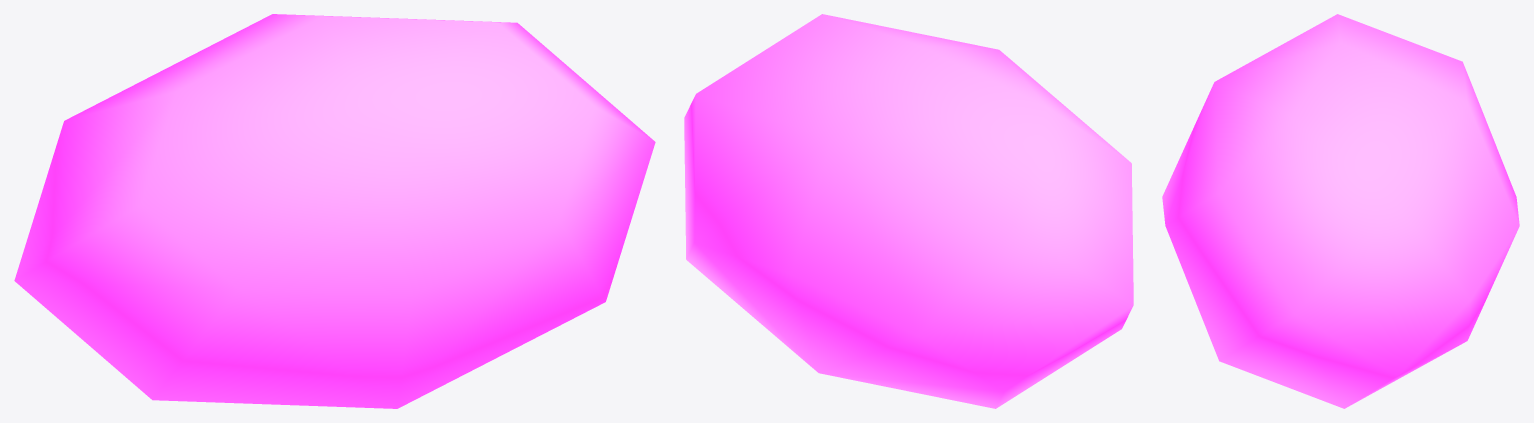
3 renders of one model, left to right at view 1: azimuth 30°, elevation 25°; view 2: azimuth 150°, elevation 25°; view 3: azimuth 270°, elevation 25°, orthographic. The views are drawn at different scales.
Parts seen in each view (by area): view 1: Sphere224_Material_0_0; view 2: Sphere224_Material_0_0; view 3: Sphere224_Material_0_0.
Part boxes in pixels (x1=…): Sphere224_Material_0_0: x1=14, y1=14, x2=655, y2=408; Sphere224_Material_0_0: x1=684, y1=14, x2=1133, y2=408; Sphere224_Material_0_0: x1=1162, y1=14, x2=1519, y2=408.
Bounding box in the file's own units: 0.0292 × 0.0189 × 0.0187.
1 material, 1 textured.
